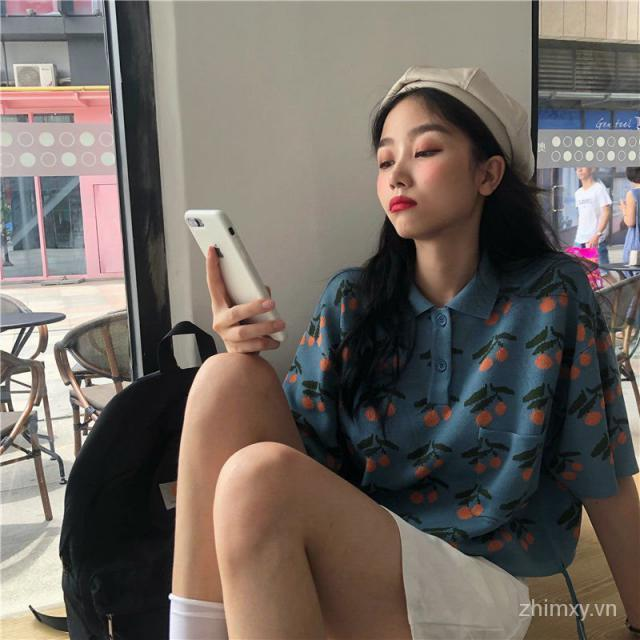Shirt: (266, 242, 638, 584)
